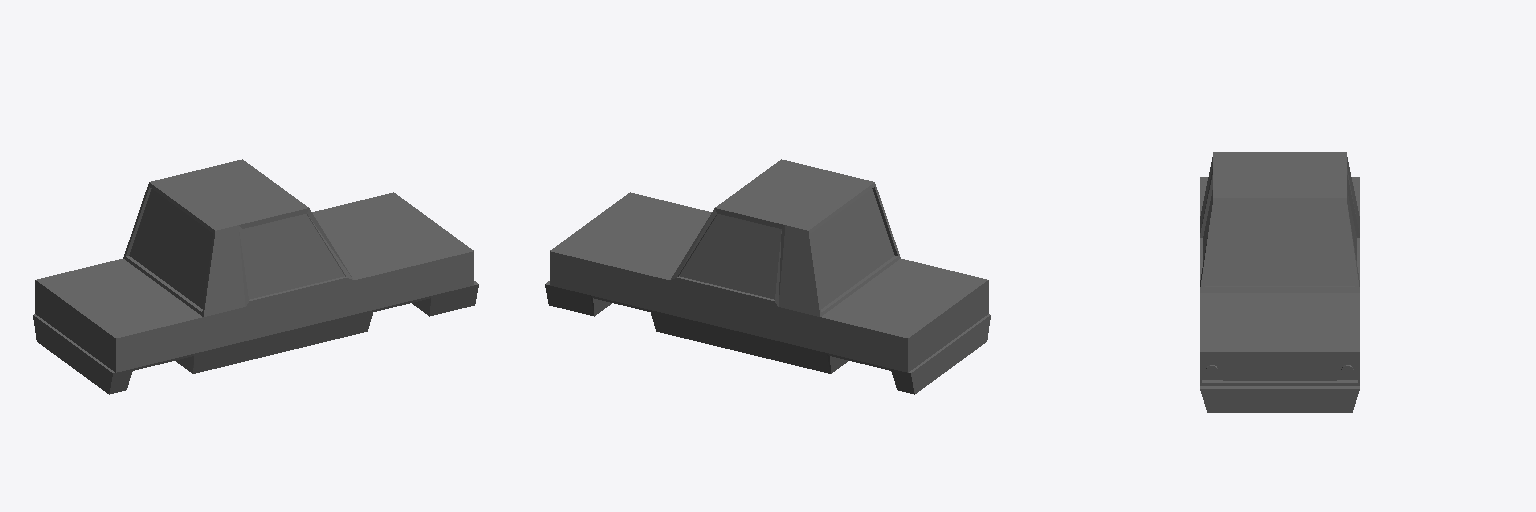
Rendered from LP_Car_1.obj.
3 renders of one model, left to right at view 1: azimuth 30°, elevation 25°; view 2: azimuth 150°, elevation 25°; view 3: azimuth 270°, elevation 25°, orthographic.
Parts seen in each view (by area): view 1: Box001; view 2: Box001; view 3: Box001.
Part boxes in pixels (x1,y1,x2,y2): Box001: (33,159,478,394); Box001: (545,159,990,394); Box001: (1200,152,1359,412).
Bounding box in the file's own units: 55.29 × 19.5 × 21.03.